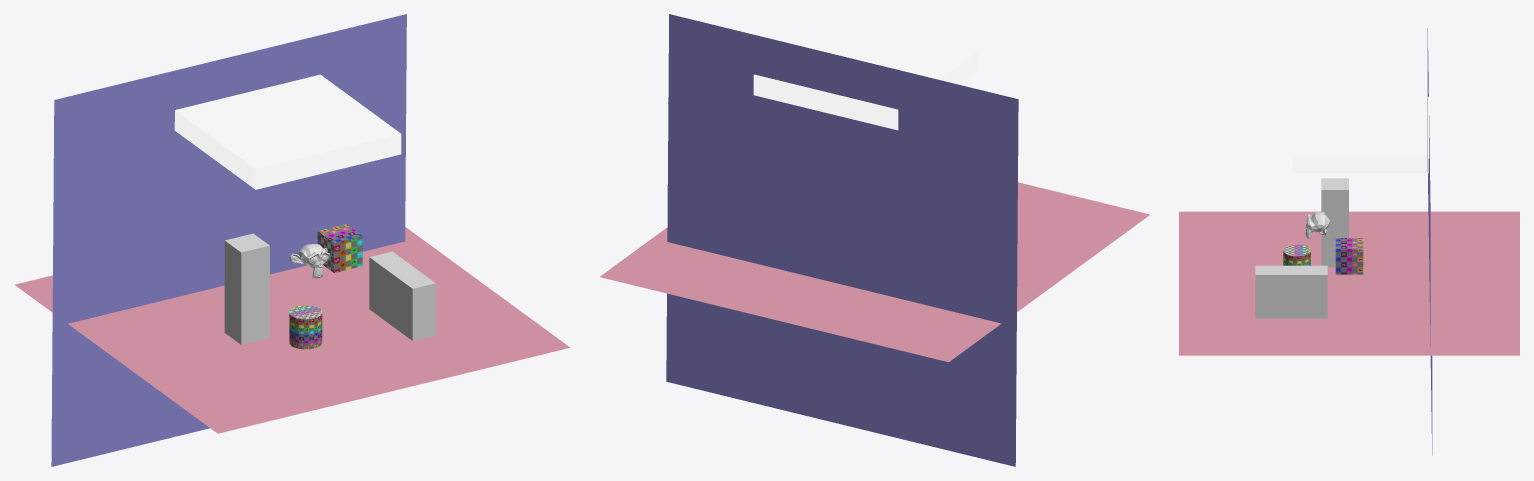
File: pathtracer_test_microfacet.glb
3 views of the same model, side by side, from view 1: azimuth 30°, elevation 25°; view 2: azimuth 150°, elevation 25°; view 3: azimuth 270°, elevation 25° (orthographic). The views are drawn at different scales.
Parts seen in each view (by area): view 1: Plane.002, Plane.001, Cube.002, Cube, Cube.001, Cube.003, Cylinder, Suzanne; view 2: Plane.002, Plane.001, Cube.002; view 3: Plane.001, Cube.002, Cube.001, Cube, Cube.003, Plane.002, Cylinder, Suzanne.
Part boxes in pixels (x1,y1,x2,y2): Plane.002: [51, 14, 406, 466]; Plane.001: [14, 227, 570, 433]; Cube.002: [174, 74, 401, 189]; Cube: [224, 233, 269, 344]; Cube.001: [369, 251, 435, 340]; Cube.003: [317, 224, 362, 272]; Cylinder: [289, 305, 322, 349]; Suzanne: [290, 244, 330, 278]; Plane.002: [666, 14, 1018, 466]; Plane.001: [600, 182, 1149, 362]; Cube.002: [753, 16, 978, 130]; Plane.001: [1179, 211, 1519, 355]; Cube.002: [1292, 96, 1428, 173]; Cube.001: [1255, 265, 1327, 318]; Cube: [1321, 178, 1348, 267]; Cube.003: [1335, 238, 1363, 274]; Plane.002: [1427, 28, 1432, 455]; Cylinder: [1283, 244, 1310, 265]; Suzanne: [1305, 212, 1329, 238].
Bounding box in the file's own units: 25.67 × 24.6 × 24.61.
Materials: 7 (2 with a texture image).
